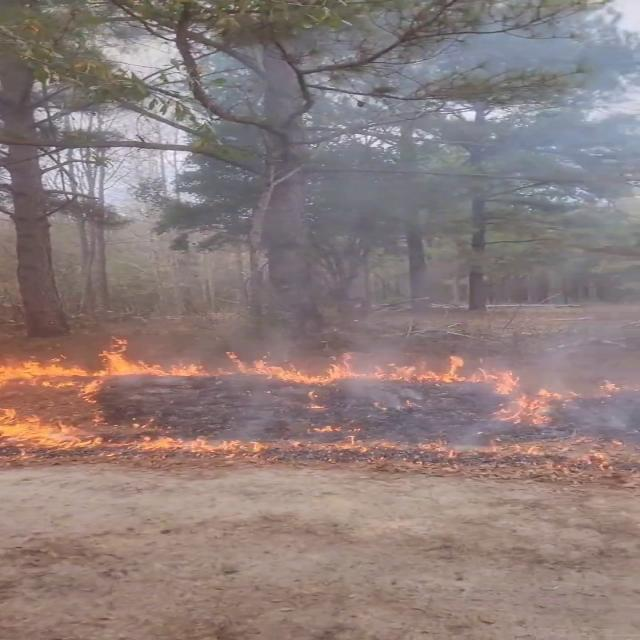Fire: (1, 336, 416, 389), (423, 344, 585, 432), (0, 403, 144, 451)
Smoke: (252, 3, 640, 349)
